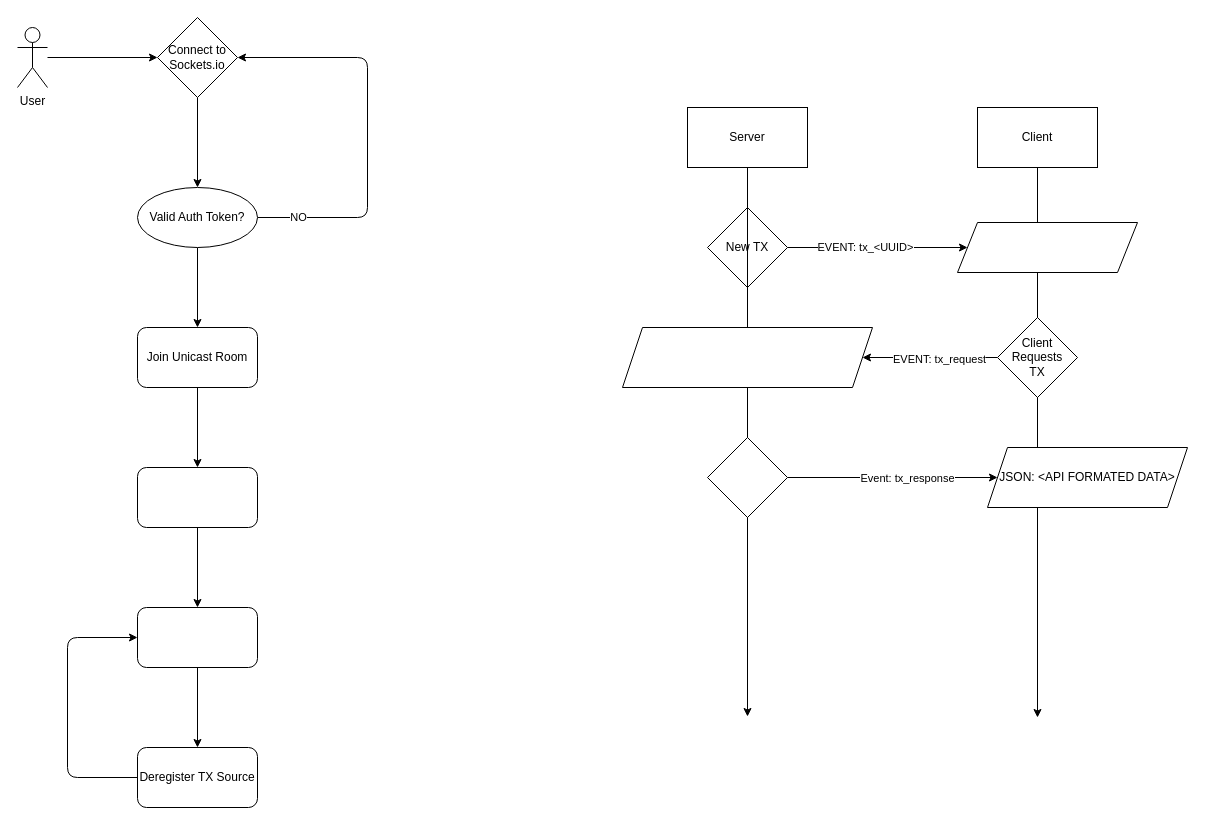
The diagram is 1205 pixels wide and 825 high, and some of its shapes have lost their labels. The centre of each missing label's shape, as x and y in pixels:
Join Users Alert Room: (x=197, y=497)
JSON: {"TX":"<UUID>", "auth": "<bearer>"}: (x=747, y=357)
JSON: {"TX":"<UUID>"}: (x=1047, y=247)
Register TX Source (TG/Scanlist/Scanner): (x=197, y=637)
Validat User: (x=747, y=477)
